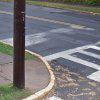Crosswalk: (44, 42, 100, 85)
